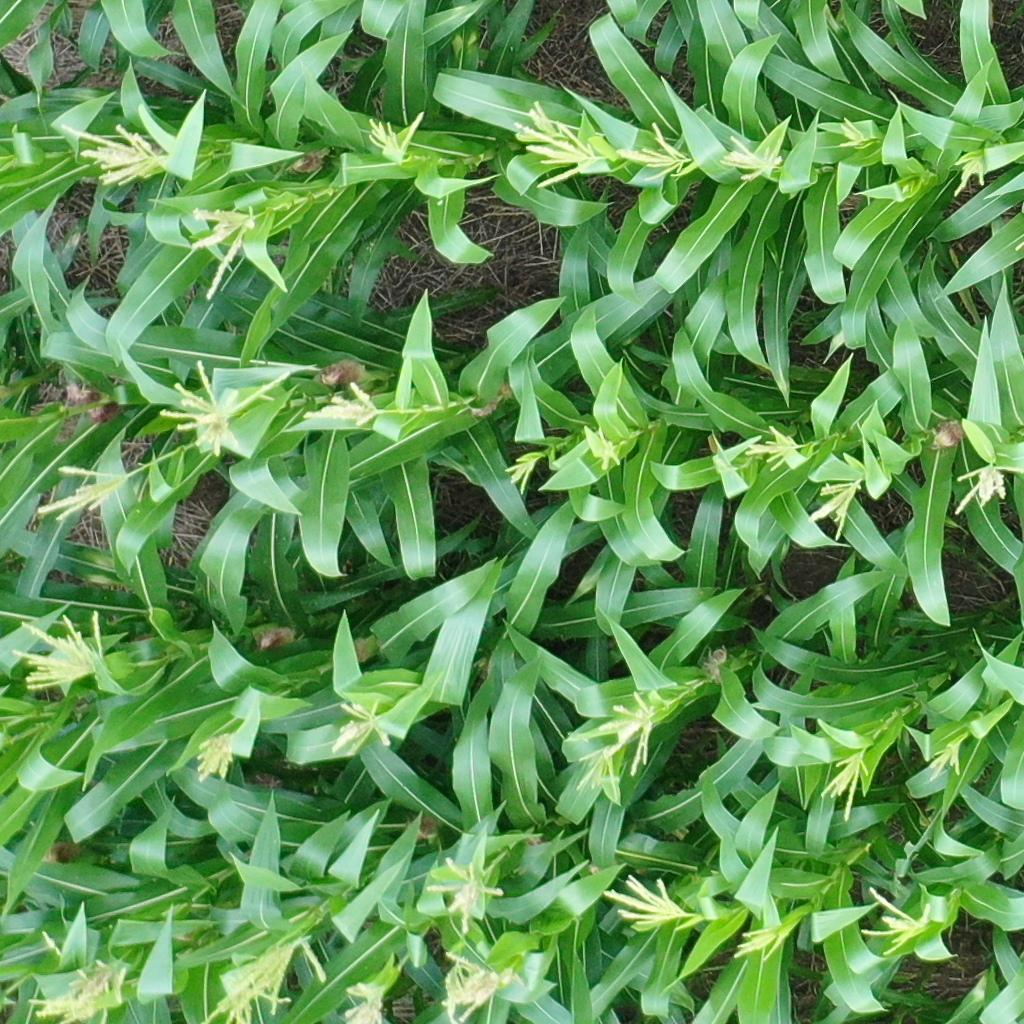Tassel: (158, 359, 292, 459), (204, 935, 328, 1024), (565, 691, 661, 775), (60, 121, 169, 187), (187, 206, 256, 300), (427, 855, 504, 935), (38, 463, 139, 522), (527, 121, 607, 190), (858, 885, 932, 958), (13, 636, 111, 691), (438, 950, 506, 1023), (601, 874, 692, 927), (617, 121, 692, 182), (303, 380, 384, 429), (953, 459, 1023, 515), (821, 746, 871, 823), (332, 698, 396, 757), (808, 477, 865, 542), (367, 109, 426, 162), (743, 426, 810, 471), (720, 135, 785, 181), (574, 740, 621, 803), (733, 922, 797, 962), (69, 959, 127, 1002), (192, 731, 237, 782), (927, 731, 970, 782), (27, 995, 100, 1024), (342, 982, 386, 1024), (514, 101, 563, 138), (504, 455, 545, 495), (593, 425, 623, 469), (952, 157, 985, 196), (837, 115, 867, 149)
